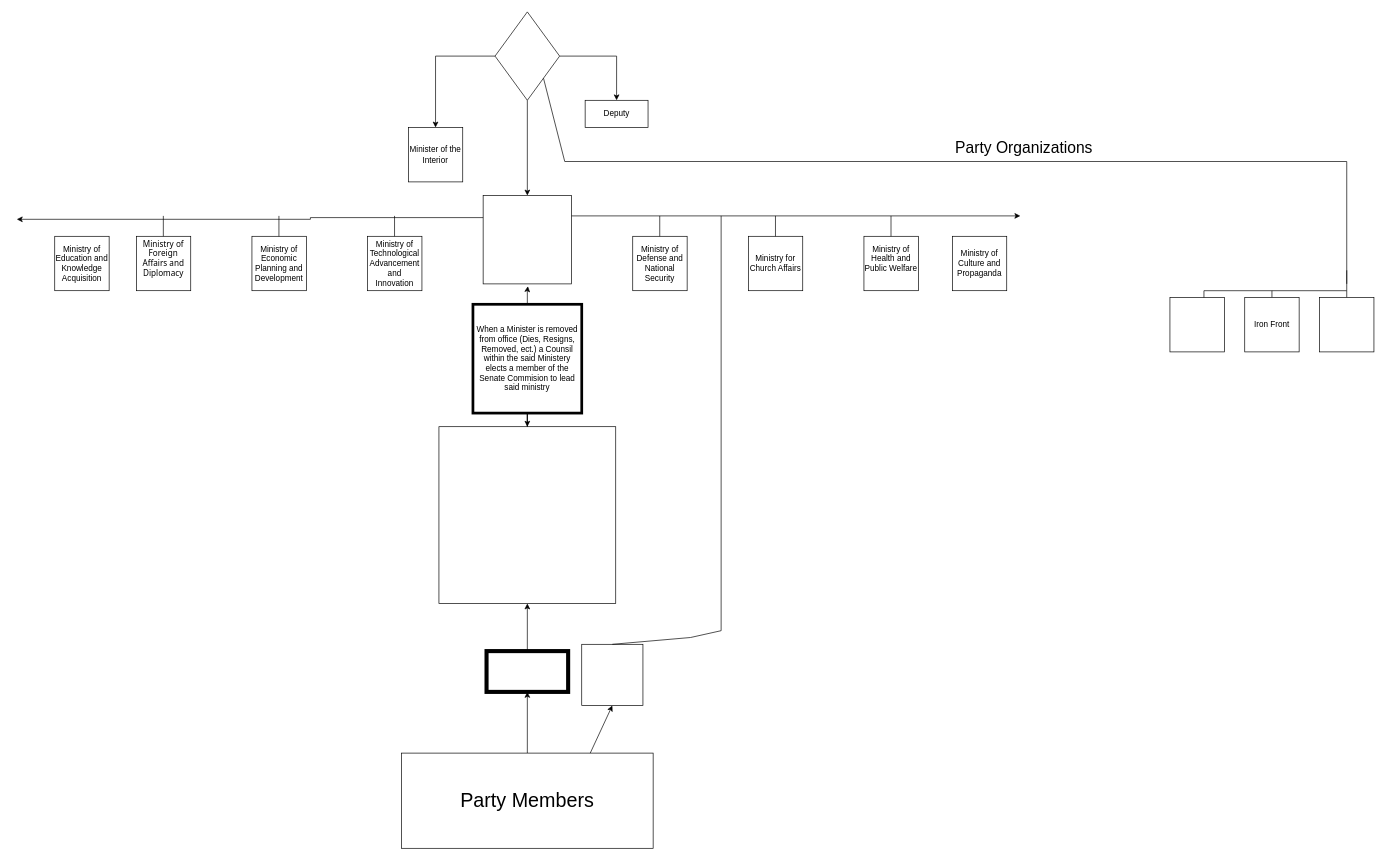
This 1386x860 diagram has some shape labels left out. The shapes that lost their labels are listed below. From the top down, each one's box as (x1, y1, x2, y2) in pixels, then its label:
(494, 11, 560, 100): President
(482, 195, 572, 284): Presidential Council <--Ministries-->
(1169, 297, 1224, 352): Order of the Iron Vanguard
(1319, 297, 1374, 352): National Labor Guild
(438, 426, 616, 604): Senate Commision
(484, 649, 570, 694): Cannot run unless deemed Fit and
(581, 644, 643, 706): Ministry of Evaluation and Certification
